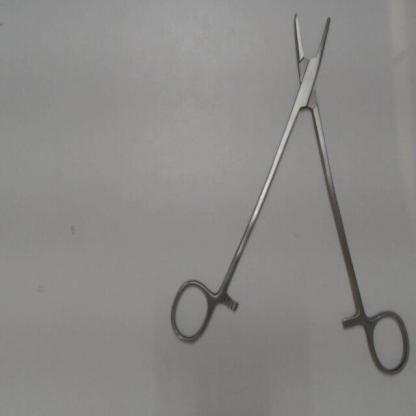8 Mayo Needle Holder: (163, 4, 414, 386)
